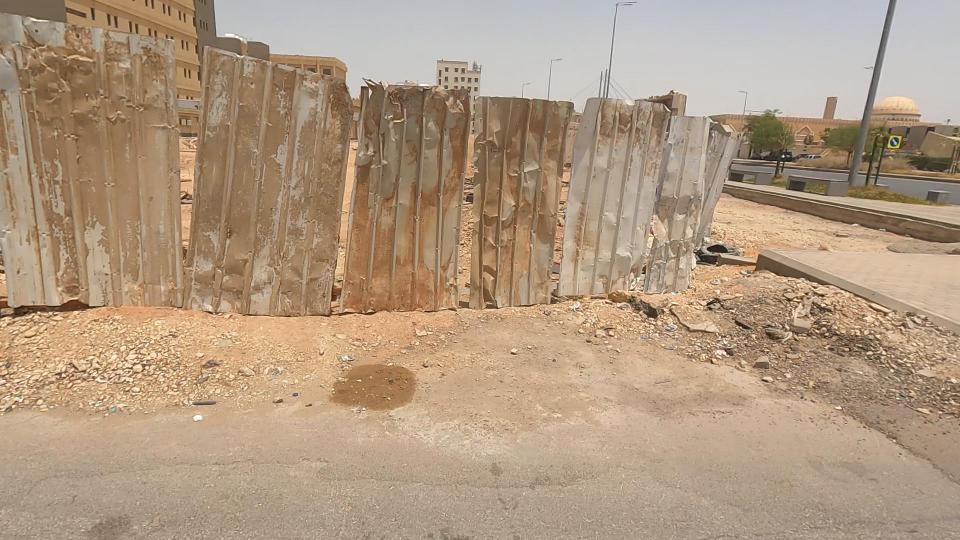GARBAGE: (635, 193, 785, 302)
